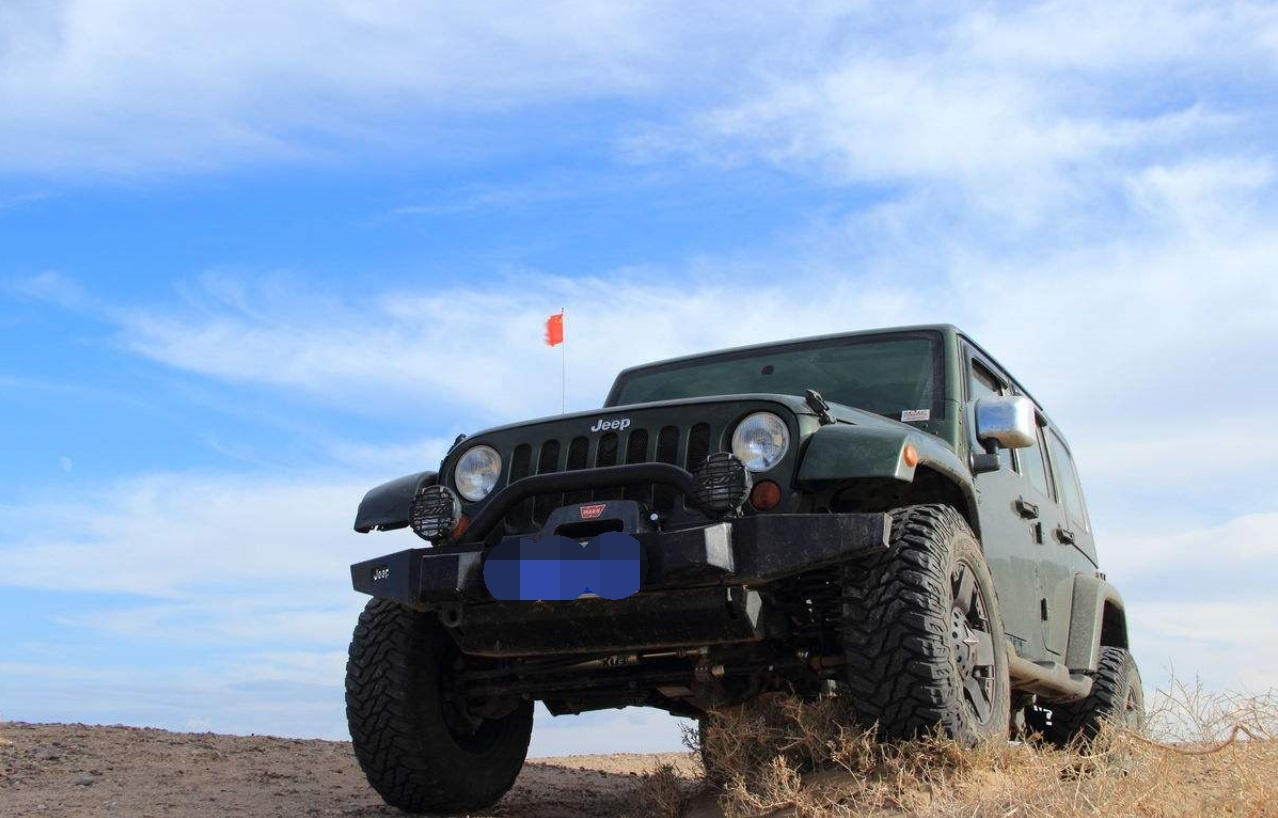jeep: (328, 290, 1156, 789)
